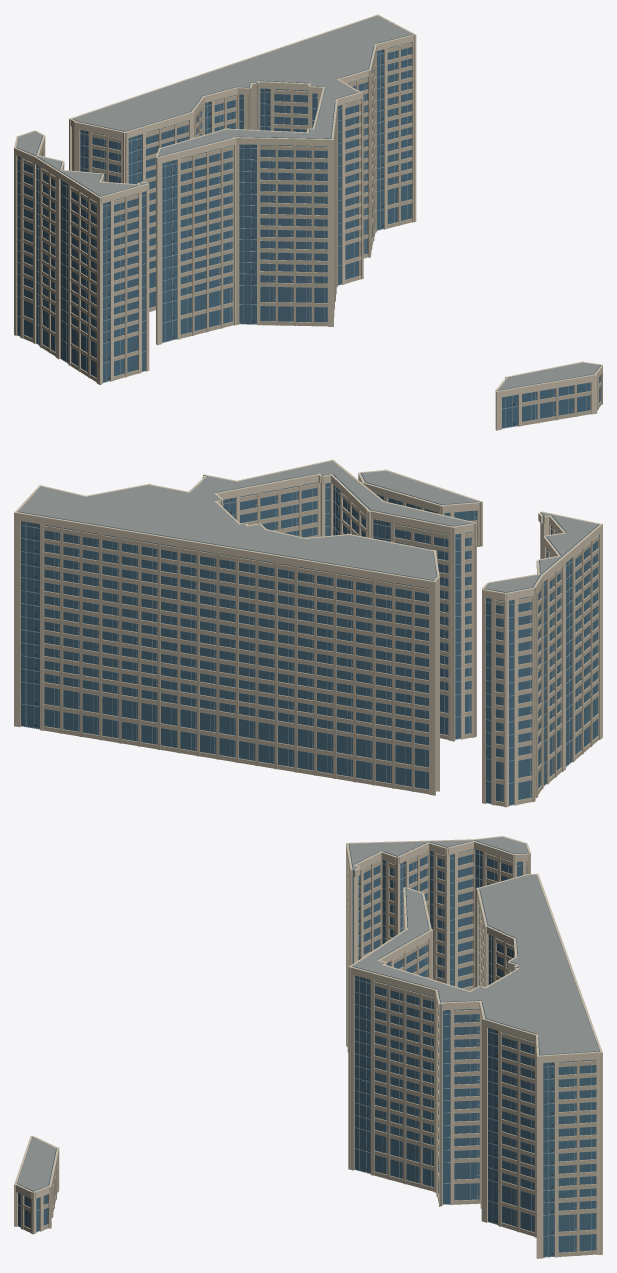
The model's file is bespoke-galleria-palace-common.glb.
3 renders of one model, top to bottom at view 1: azimuth 30°, elevation 25°; view 2: azimuth 150°, elevation 25°; view 3: azimuth 270°, elevation 25°, orthographic. The views are drawn at different scales.
Parts seen in each view (by area): view 1: bespoke-galleria-palace-common_export_batch_1, bespoke-galleria-palace-common_export_batch_3, bespoke-galleria-palace-common_export_batch_4, bespoke-galleria-palace-common_export_batch_2, bespoke-galleria-palace-common_export_batch_5, bespoke-galleria-palace-common_export_batch_6; view 2: bespoke-galleria-palace-common_export_batch_1, bespoke-galleria-palace-common_export_batch_4, bespoke-galleria-palace-common_export_batch_3, bespoke-galleria-palace-common_export_batch_2, bespoke-galleria-palace-common_export_batch_5, bespoke-galleria-palace-common_export_batch_7; view 3: bespoke-galleria-palace-common_export_batch_1, bespoke-galleria-palace-common_export_batch_3, bespoke-galleria-palace-common_export_batch_4, bespoke-galleria-palace-common_export_batch_2, bespoke-galleria-palace-common_export_batch_5, bespoke-galleria-palace-common_export_batch_6.
Boxes of the visible parts, x1,y1,x2,y2 form: bespoke-galleria-palace-common_export_batch_1: [16, 29, 600, 428]; bespoke-galleria-palace-common_export_batch_3: [14, 14, 602, 430]; bespoke-galleria-palace-common_export_batch_4: [16, 26, 602, 425]; bespoke-galleria-palace-common_export_batch_2: [16, 15, 600, 390]; bespoke-galleria-palace-common_export_batch_5: [17, 43, 600, 428]; bespoke-galleria-palace-common_export_batch_6: [66, 49, 514, 425]; bespoke-galleria-palace-common_export_batch_1: [18, 473, 599, 805]; bespoke-galleria-palace-common_export_batch_4: [41, 460, 600, 806]; bespoke-galleria-palace-common_export_batch_3: [14, 459, 602, 807]; bespoke-galleria-palace-common_export_batch_2: [18, 461, 598, 592]; bespoke-galleria-palace-common_export_batch_5: [21, 482, 598, 805]; bespoke-galleria-palace-common_export_batch_7: [44, 483, 598, 801]; bespoke-galleria-palace-common_export_batch_1: [17, 840, 599, 1257]; bespoke-galleria-palace-common_export_batch_3: [14, 836, 602, 1258]; bespoke-galleria-palace-common_export_batch_4: [23, 843, 600, 1256]; bespoke-galleria-palace-common_export_batch_2: [17, 837, 599, 1191]; bespoke-galleria-palace-common_export_batch_5: [18, 844, 596, 1257]; bespoke-galleria-palace-common_export_batch_6: [358, 851, 553, 1255].
Bounding box in the file's own units: 113 × 48.43 × 128.
